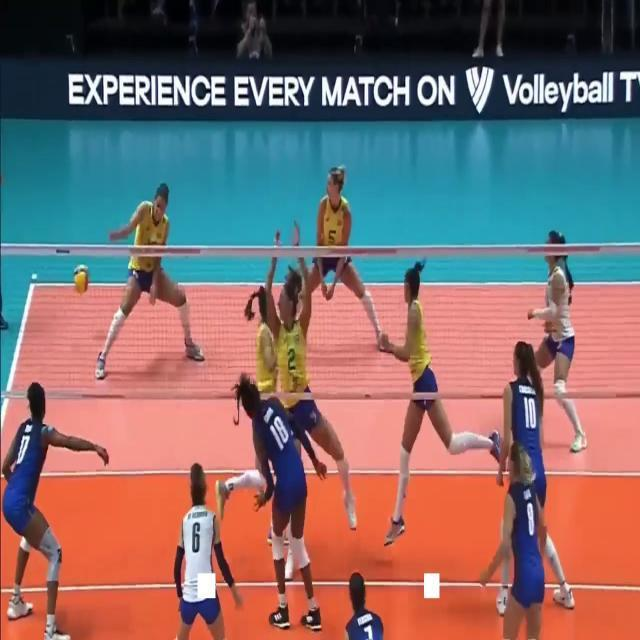volleyball: (74, 264, 90, 293)
